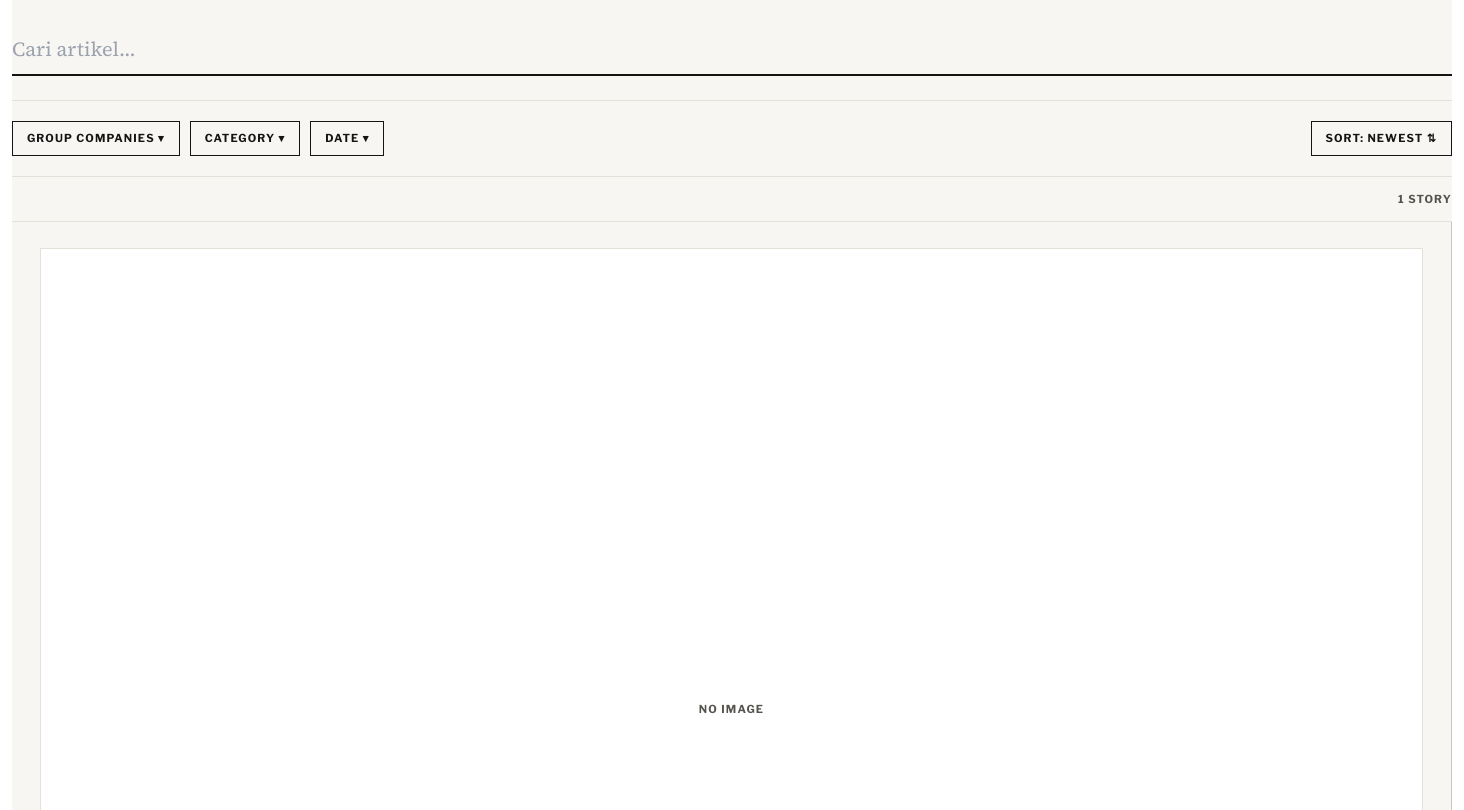
Scenario: NewsExplorer › toggling sort flips the label and re-fetches with the opposite order
The width and height of the screenshot is (1464, 810).
Later steps or results of the test are not shown.
What coordinates should you click on to do the following:
click the button "Sort: Newest ⇅"
I would click on:
 (1381, 138)
Its box is [1310,121,1452,156].
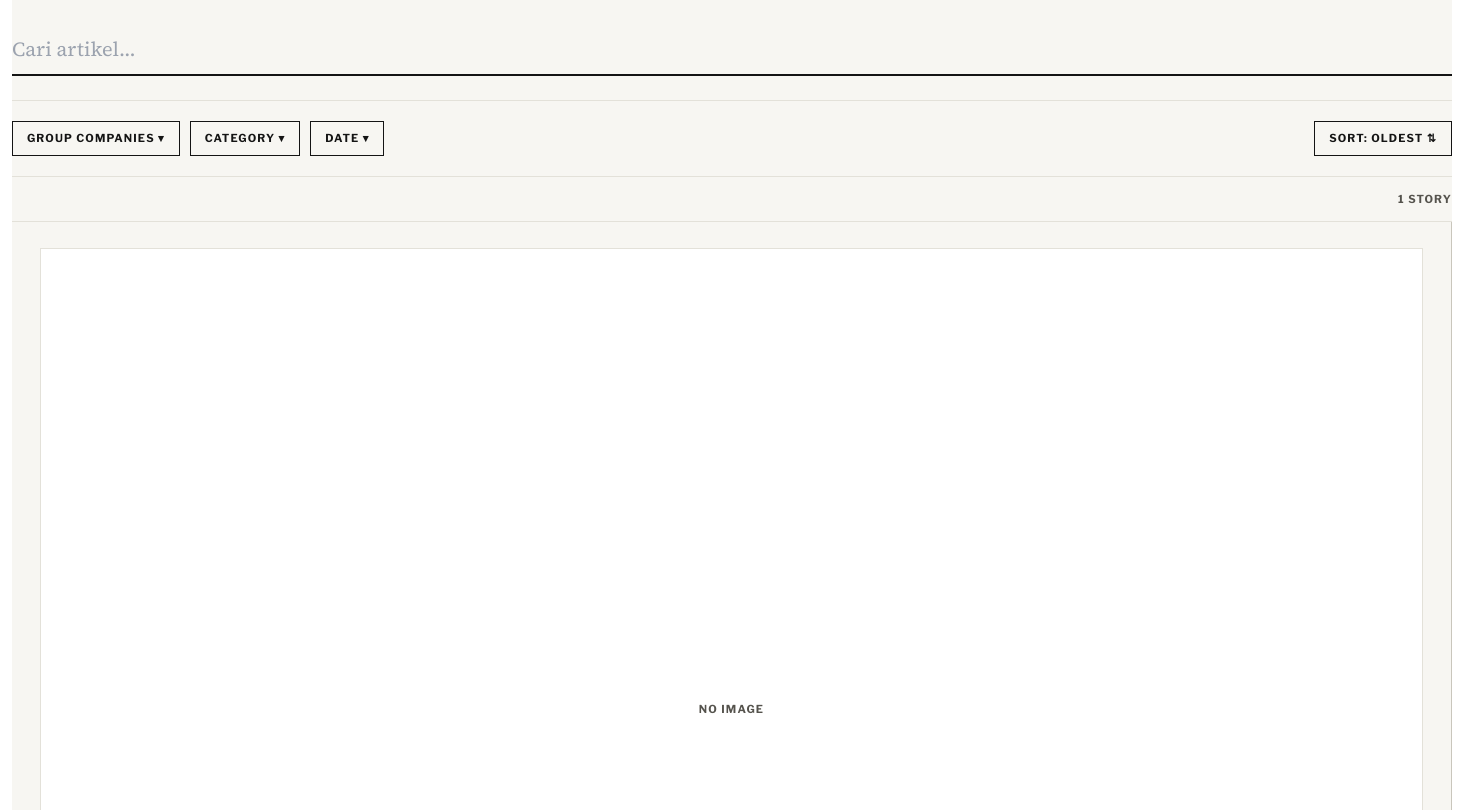
Expected: the button "Sort: Oldest ⇅" is shown, [1314,121,1452,156]
